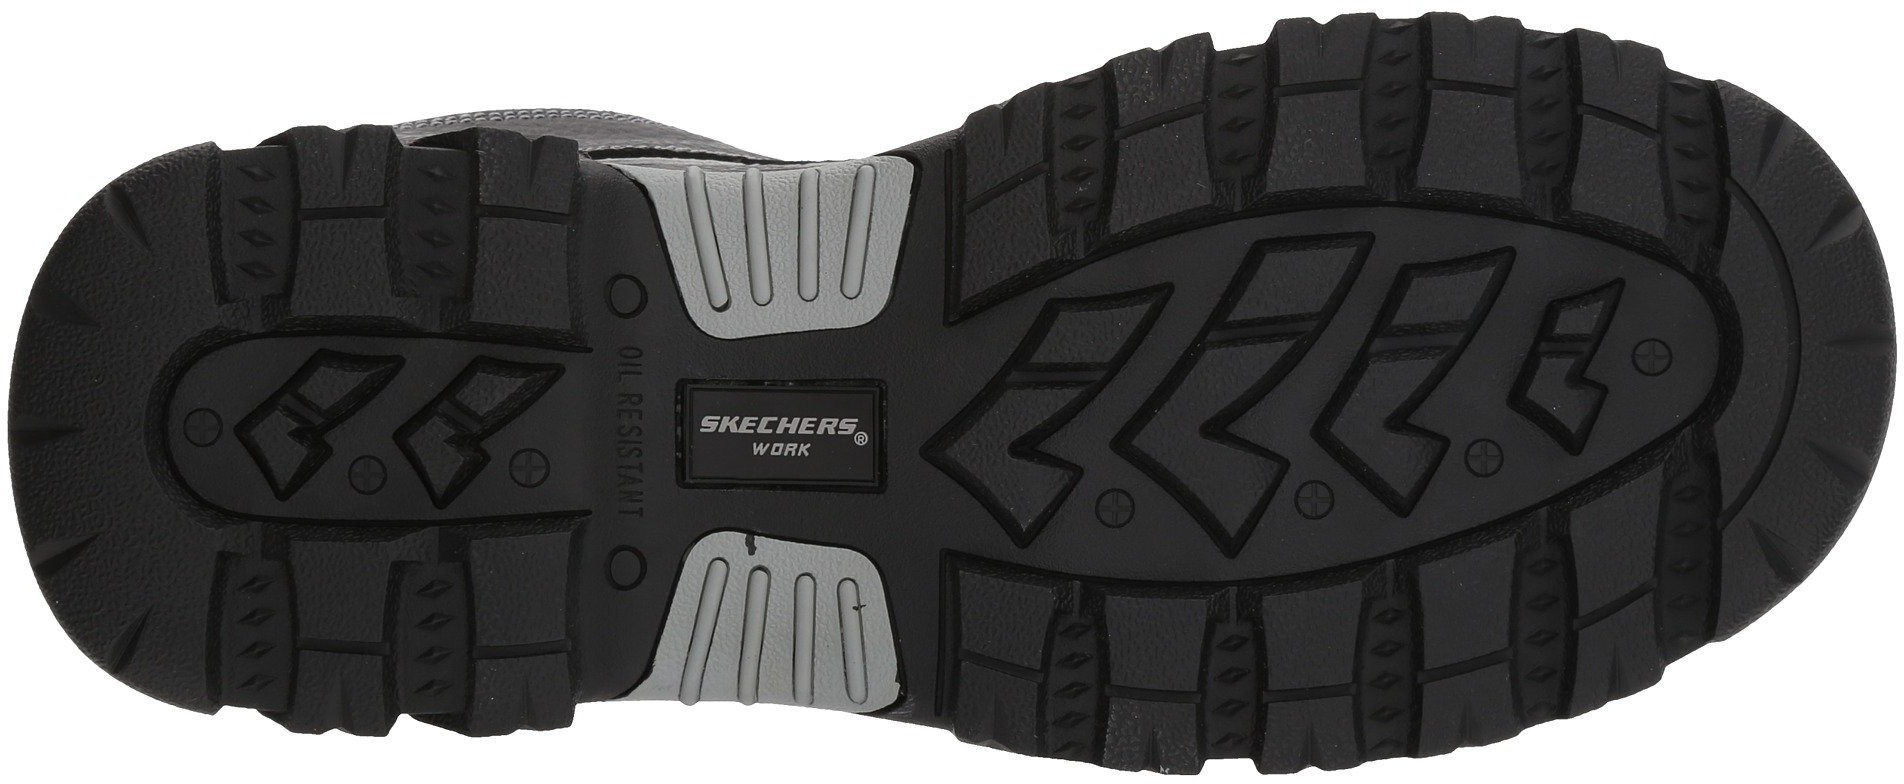chevron: (943, 214, 1337, 563), (1317, 229, 1622, 517), (389, 353, 567, 506), (231, 352, 399, 504)
circle: (943, 214, 1337, 563), (1317, 229, 1622, 517), (678, 342, 888, 527), (389, 353, 567, 506), (231, 352, 399, 504), (585, 530, 678, 618), (588, 259, 674, 343), (1617, 324, 1685, 390), (170, 397, 234, 462)
exclude: (246, 1, 1378, 174), (576, 161, 682, 718)
line: (726, 170, 889, 328), (715, 555, 880, 703)
other: (19, 364, 146, 493)
quad: (943, 214, 1337, 563), (1317, 229, 1622, 517), (678, 342, 888, 527), (389, 353, 567, 506), (231, 352, 399, 504), (449, 509, 588, 659), (1401, 528, 1534, 678), (1552, 592, 1688, 727), (1099, 113, 1237, 245), (1416, 79, 1549, 214), (1405, 84, 1538, 208), (282, 211, 404, 328), (1090, 587, 1220, 697), (280, 532, 404, 644)
text: (678, 342, 888, 527), (580, 368, 674, 475)
triangle: (1552, 592, 1688, 727)
